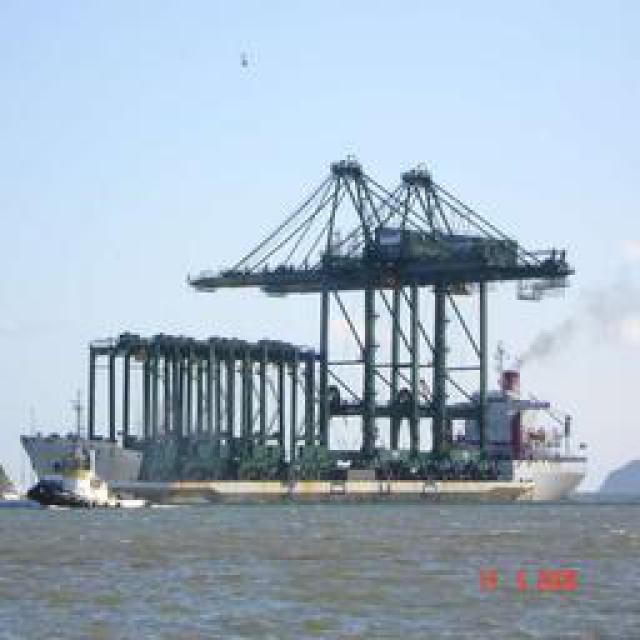Ship: (21, 137, 588, 511)
